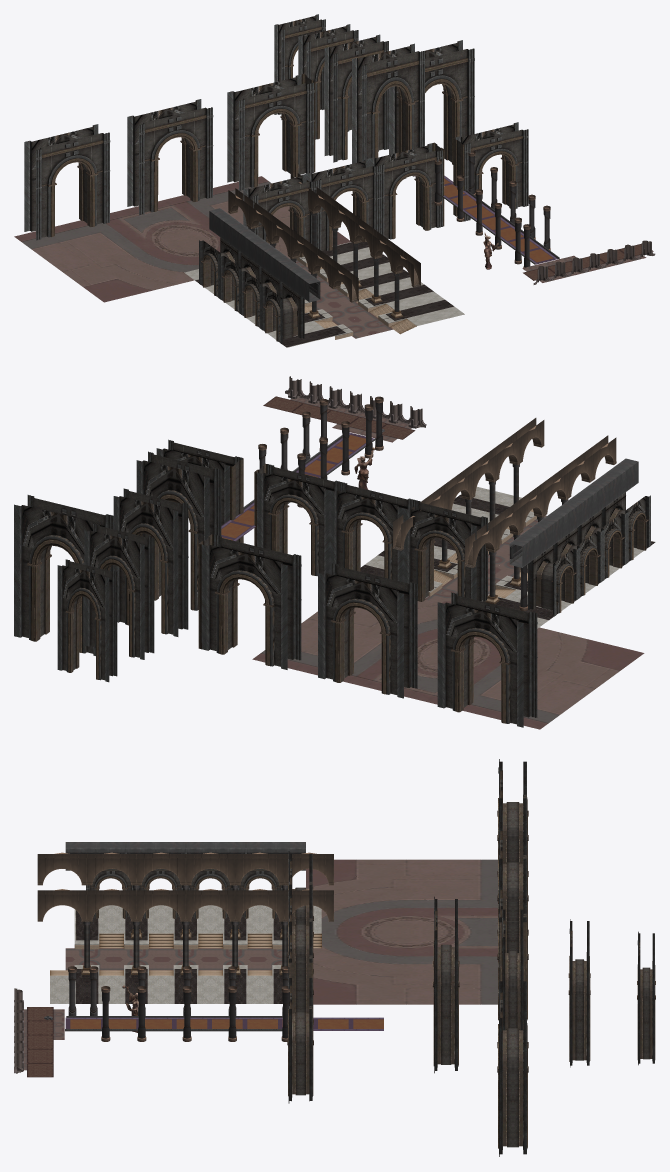
File: env_cor_jeditemplehall_pre.glb
The picture shows the model from 3 angles, top to bottom: view 1: azimuth 30°, elevation 25°; view 2: azimuth 150°, elevation 25°; view 3: azimuth 270°, elevation 25°; orthographic projection. The views are drawn at different scales.
Parts seen in each view (by area): view 1: cor_jeditemple_arch_02 (3) (×4), cor_jeditemple_floor_02b_mesh (10), cor_jeditemple_arch_02 (×3), cor_jeditemple_arch_02 (1) (×3), cor_jeditemple_arch_02 (2) (×2), cor_jeditemple_arch_02 (6), cor_jeditemple_arch_02 (4) (×2), cor_jeditemple_arch_02 (5), cor_jeditemple_arch_01 (1) (×3), cor_jeditemple_railing_01b (5), cor_jeditemple_railing_01b (4), cor_jeditemple_floor_04 (7) (+10 smaller); view 2: cor_jeditemple_arch_02 (3) (×4), cor_jeditemple_arch_02 (×3), cor_jeditemple_arch_02 (1) (×3), cor_jeditemple_floor_02b_mesh (10), cor_jeditemple_arch_02 (2) (×2), cor_jeditemple_arch_02 (4) (×2), cor_jeditemple_arch_02 (6), cor_jeditemple_arch_02 (5), cor_jeditemple_railing_01b (4), cor_jeditemple_arch_01 (1) (×3), cor_jeditemple_railing_01b (5), cor_jeditemple_arch_01 (5) (×2) (+10 smaller); view 3: cor_jeditemple_floor_02b_mesh (10), cor_jeditemple_arch_02 (3) (×4), cor_jeditemple_arch_02 (2) (×2), cor_jeditemple_arch_02 (1) (×3), cor_jeditemple_arch_01 (2) (×3), cor_jeditemple_arch_01 (1) (×3), cor_jeditemple_arch_02 (4) (×2), cor_jeditemple_arch_02 (5), cor_jeditemple_arch_01 (4) (×2), cor_jeditemple_arch_01 (5) (×2), cor_jeditemple_arch_01 (3) (×2), cor_jeditemple_arch_02 (6) (+15 smaller).
Boxes of the visible parts, x1=… form: cor_jeditemple_arch_02 (3) (×4): x1=24, y1=43, x2=424, y2=328; cor_jeditemple_floor_02b_mesh (10): x1=14, y1=176, x2=350, y2=302; cor_jeditemple_arch_02 (×3): x1=199, y1=74, x2=442, y2=298; cor_jeditemple_arch_02 (1) (×3): x1=127, y1=99, x2=379, y2=313; cor_jeditemple_arch_02 (2) (×2): x1=389, y1=40, x2=528, y2=220; cor_jeditemple_arch_02 (6): x1=324, y1=34, x2=388, y2=162; cor_jeditemple_arch_02 (4) (×2): x1=261, y1=14, x2=325, y2=343; cor_jeditemple_arch_02 (5): x1=298, y1=24, x2=358, y2=139; cor_jeditemple_arch_01 (1) (×3): x1=228, y1=188, x2=400, y2=302; cor_jeditemple_railing_01b (5): x1=259, y1=245, x2=320, y2=302; cor_jeditemple_railing_01b (4): x1=209, y1=208, x2=269, y2=265; cor_jeditemple_floor_04 (7): x1=378, y1=299, x2=464, y2=334; cor_jeditemple_arch_02 (3) (×4): x1=136, y1=451, x2=626, y2=727; cor_jeditemple_arch_02 (×3): x1=201, y1=464, x2=578, y2=669; cor_jeditemple_arch_02 (1) (×3): x1=318, y1=482, x2=602, y2=698; cor_jeditemple_floor_02b_mesh (10): x1=252, y1=599, x2=644, y2=729; cor_jeditemple_arch_02 (2) (×2): x1=14, y1=439, x2=241, y2=655; cor_jeditemple_arch_02 (4) (×2): x1=57, y1=492, x2=650, y2=682; cor_jeditemple_arch_02 (6): x1=113, y1=488, x2=188, y2=636; cor_jeditemple_arch_02 (5): x1=84, y1=523, x2=154, y2=659; cor_jeditemple_railing_01b (4): x1=509, y1=501, x2=580, y2=567; cor_jeditemple_arch_01 (1) (×3): x1=465, y1=435, x2=616, y2=567; cor_jeditemple_railing_01b (5): x1=568, y1=458, x2=638, y2=524; cor_jeditemple_arch_01 (5) (×2): x1=464, y1=453, x2=568, y2=515; cor_jeditemple_floor_02b_mesh (10): x1=306, y1=859, x2=497, y2=1004; cor_jeditemple_arch_02 (3) (×4): x1=139, y1=759, x2=528, y2=1073; cor_jeditemple_arch_02 (2) (×2): x1=287, y1=976, x2=528, y2=1156; cor_jeditemple_arch_02 (1) (×3): x1=189, y1=819, x2=528, y2=962; cor_jeditemple_arch_01 (2) (×3): x1=37, y1=852, x2=333, y2=921; cor_jeditemple_arch_01 (1) (×3): x1=37, y1=852, x2=333, y2=921; cor_jeditemple_arch_02 (4) (×2): x1=86, y1=870, x2=655, y2=1065; cor_jeditemple_arch_02 (5): x1=568, y1=919, x2=590, y2=1067; cor_jeditemple_arch_01 (4) (×2): x1=186, y1=852, x2=235, y2=921; cor_jeditemple_arch_01 (5) (×2): x1=136, y1=852, x2=185, y2=921; cor_jeditemple_arch_01 (3) (×2): x1=87, y1=852, x2=284, y2=921; cor_jeditemple_arch_02 (6): x1=501, y1=907, x2=524, y2=1030.
Size of what is drawn, in the model's own units: 234 by 74.17 by 240.
16 materials, 16 textured.
